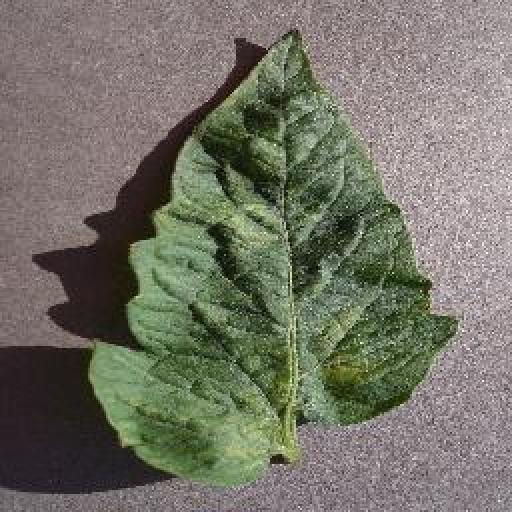Spider Mites: (86, 28, 462, 485)
